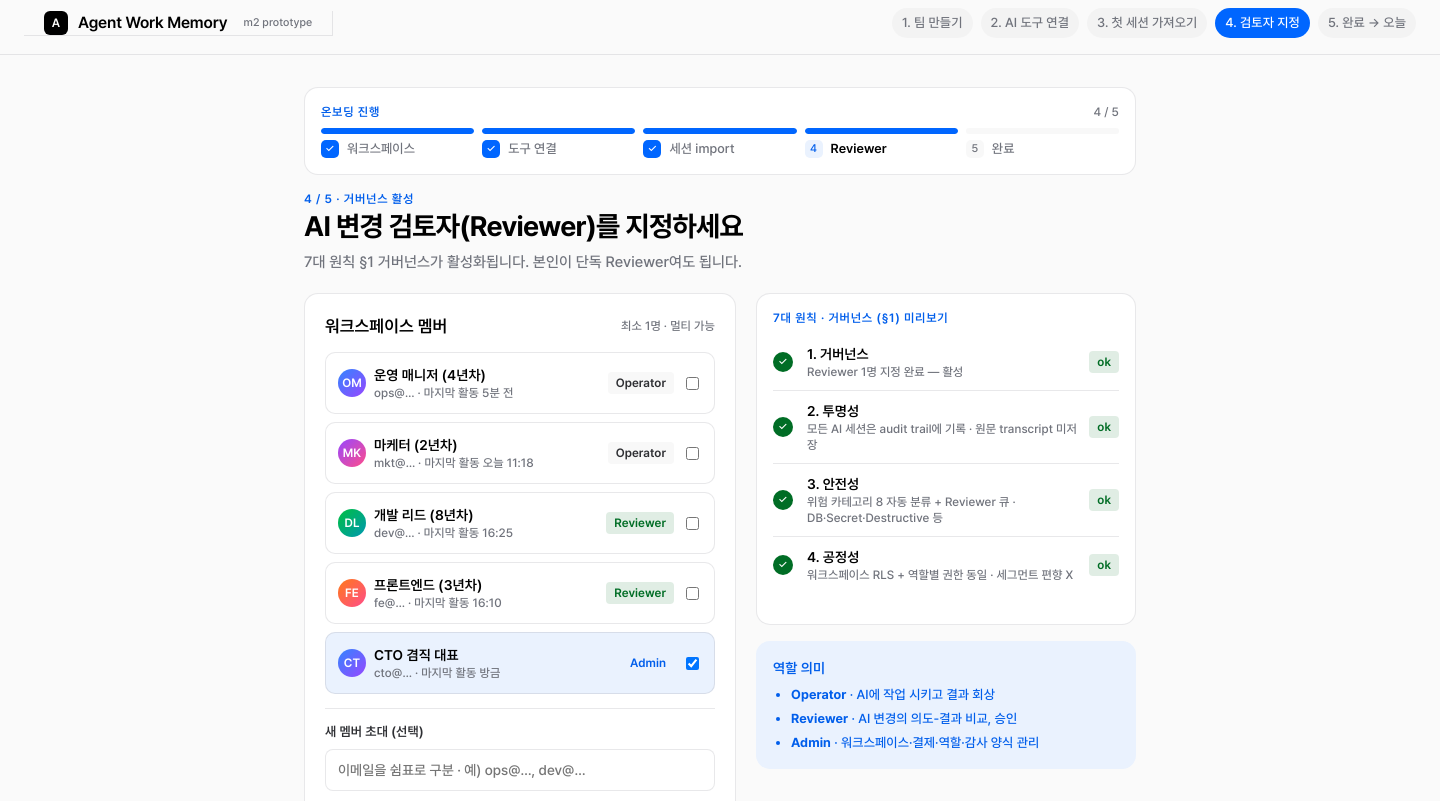
Test: AppShell + product IA › Onboarding Reviewer toggles members and reflects §1 governance state
Check: the heading "AI 변경 검토자(Reviewer)를 지정하세요" is shown, box [304, 207, 743, 245]
Check: the text "Reviewer 1명 지정 완료 — 활성" is shown, box [807, 365, 963, 379]
# 해제 → pending 상태
Click the checkbox named "CTO 겸직 대표 선택".
click(692, 663)  # box [686, 657, 699, 670]
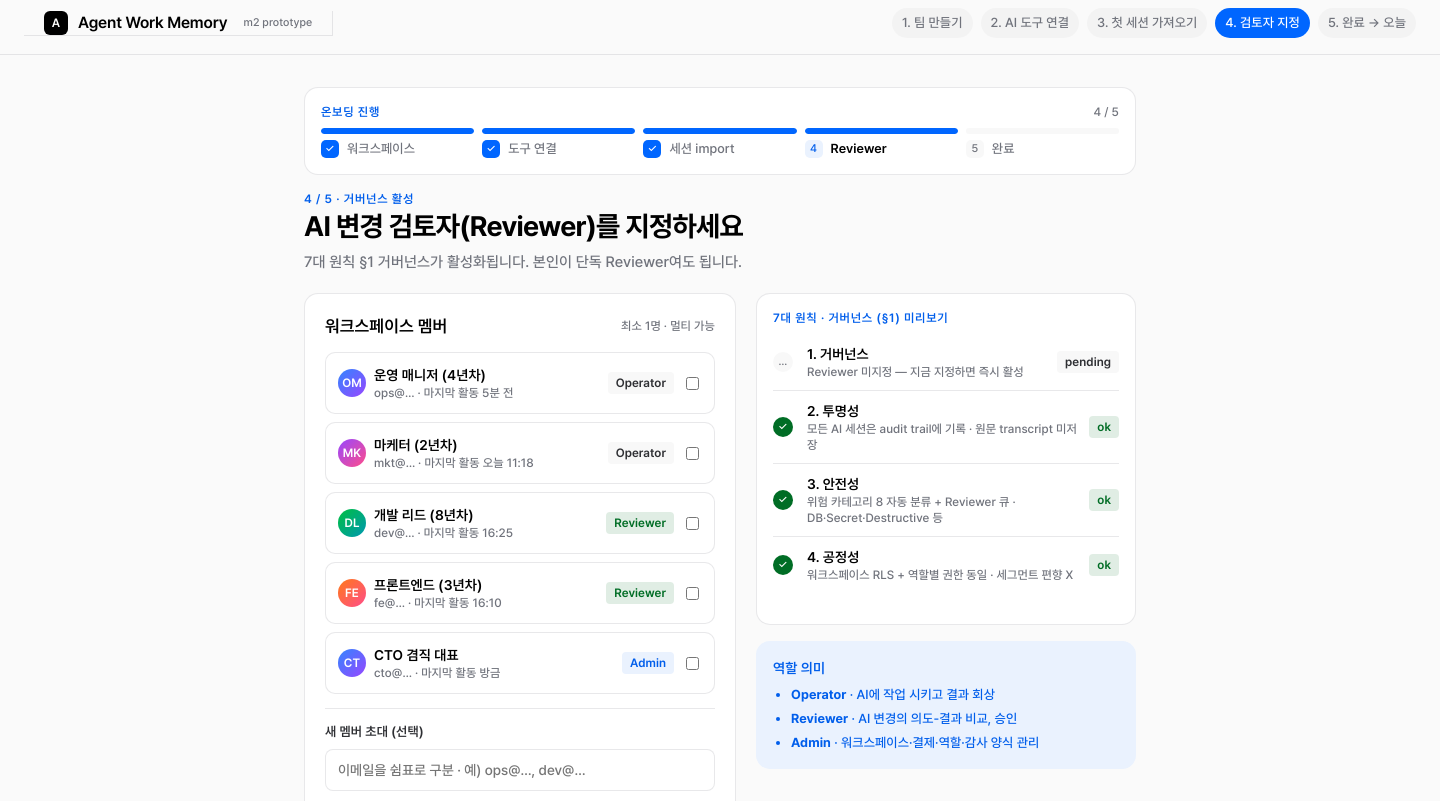
Check: the text "Reviewer 미지정 — 지금 지정하면 즉시 활성" is shown, box [807, 364, 1047, 380]
# 다른 멤버 선택 → 다시 활성 + 완료 Link
Click the checkbox named "개발 리드 (8년차) 선택".
click(692, 523)  # box [686, 516, 699, 530]
(page scrolled)
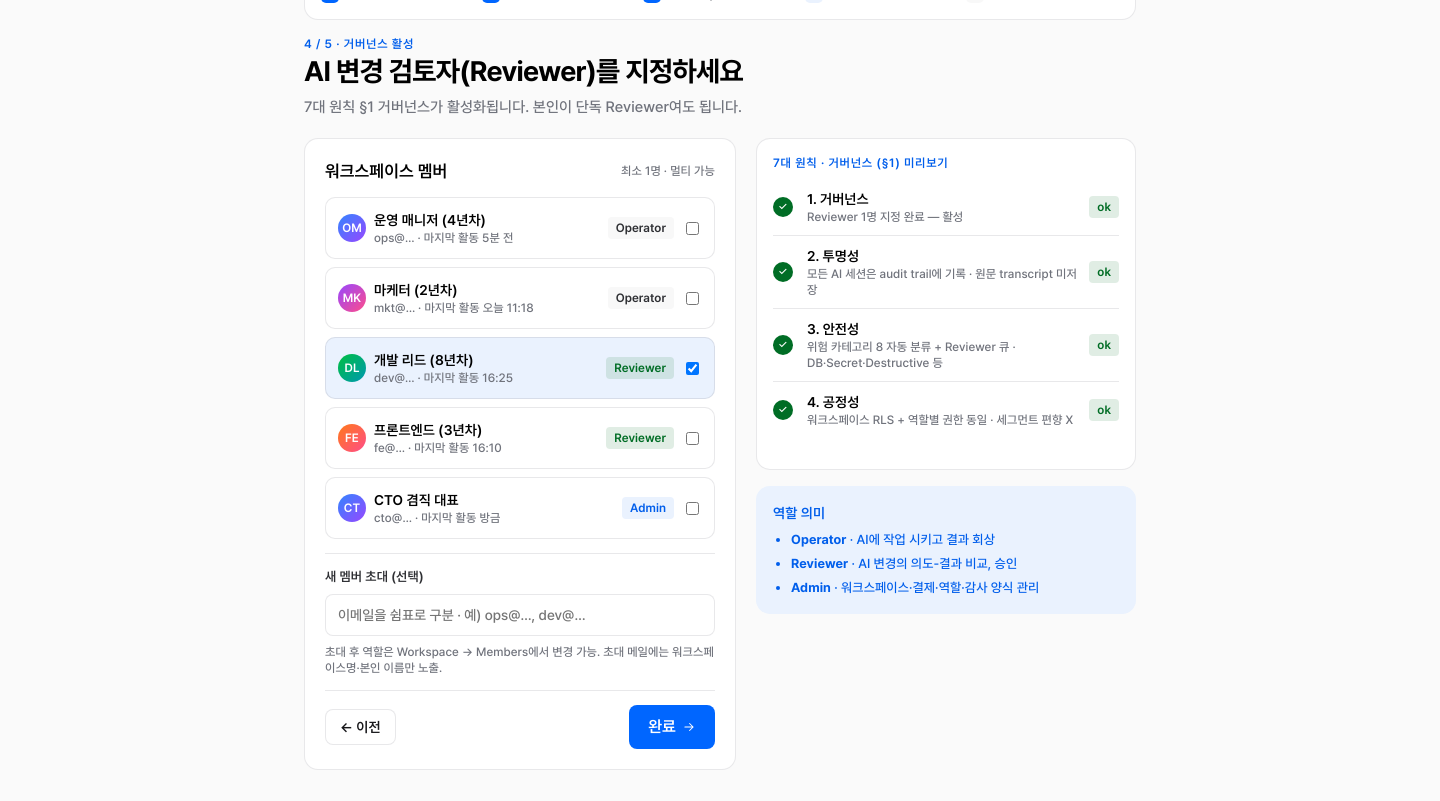
Check: the text "Reviewer 1명 지정 완료 — 활성" is shown, box [807, 210, 963, 224]
